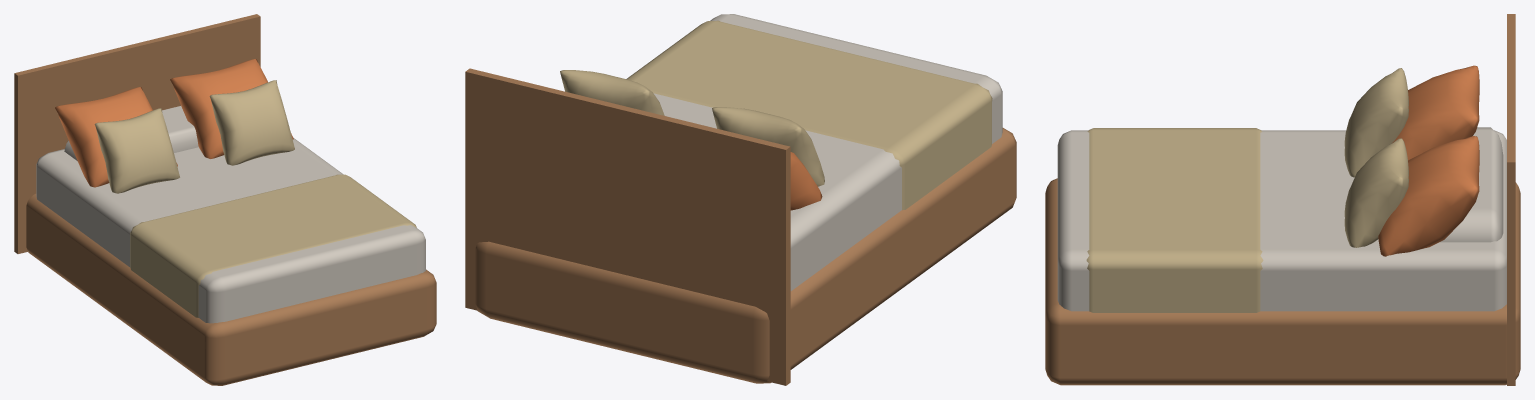
File: bed1.glb
3 views of the same model, side by side, from view 1: azimuth 30°, elevation 25°; view 2: azimuth 150°, elevation 25°; view 3: azimuth 270°, elevation 25° (orthographic). The views are drawn at different scales.
Parts seen in each view (by area): view 1: bed, base, cushion (×4), cover, bigwoodback, longcushion; view 2: bigwoodback, base, cover, bed, cushion (×3); view 3: base, bed, cover, cushion (×4), longcushion, bigwoodback.
Part boxes in pixels (bbox=[...]): bed: bbox=[36, 138, 425, 323]; base: bbox=[26, 193, 436, 385]; cushion (×4): bbox=[55, 59, 294, 193]; cover: bbox=[130, 174, 416, 317]; bigwoodback: bbox=[14, 14, 260, 253]; longcushion: bbox=[64, 106, 198, 160]; bigwoodback: bbox=[465, 68, 790, 385]; base: bbox=[475, 128, 1016, 383]; cover: bbox=[626, 20, 992, 210]; bed: bbox=[653, 14, 1002, 290]; cushion (×3): bbox=[560, 70, 824, 210]; base: bbox=[1045, 178, 1520, 385]; bed: bbox=[1057, 130, 1506, 311]; cover: bbox=[1086, 128, 1263, 312]; cushion (×4): bbox=[1344, 65, 1479, 256]; longcushion: bbox=[1440, 127, 1503, 242]; bigwoodback: bbox=[1507, 14, 1515, 385].
Bounding box in the file's own units: 2.66 × 1.94 × 3.61.
